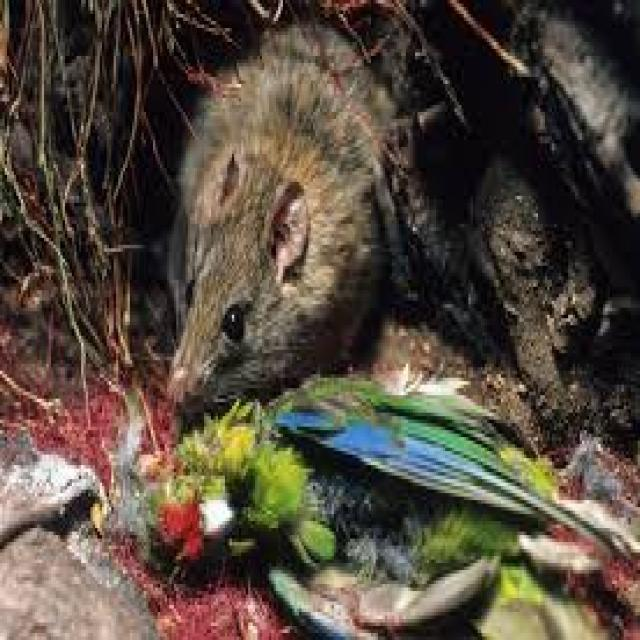Rat: (138, 0, 390, 384)
